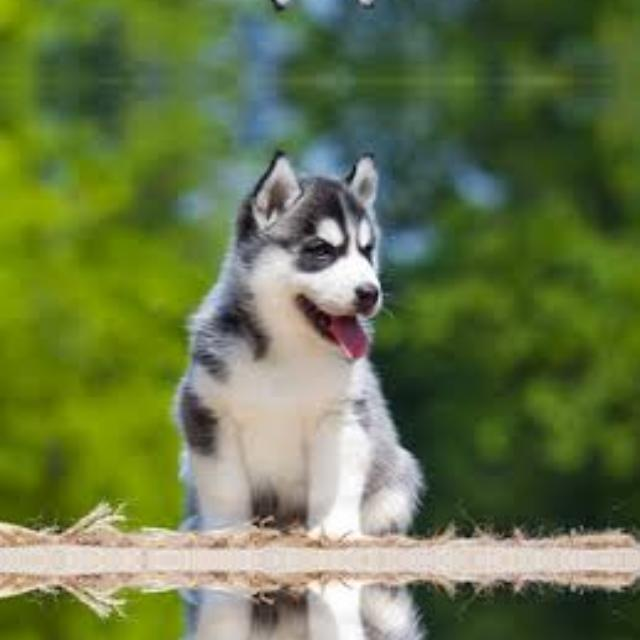dog: (160, 151, 450, 559), (160, 560, 450, 640), (160, 0, 450, 9)
